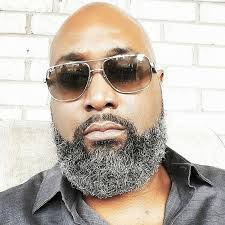black_male: (49, 21, 163, 185)
